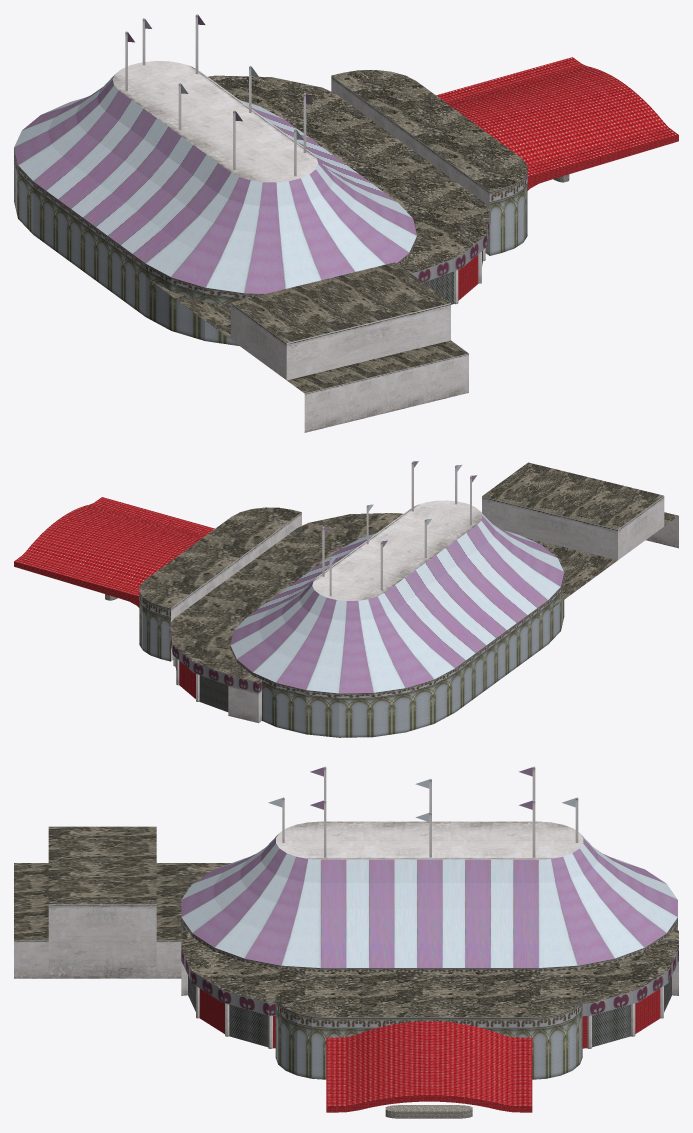
Rendered from vgncircus1.obj.
3 views of the same model, one above another, from view 1: azimuth 30°, elevation 25°; view 2: azimuth 150°, elevation 25°; view 3: azimuth 270°, elevation 25° (orthographic). The views are drawn at different scales.
Parts seen in each view (by area): view 1: vgncircus1; view 2: vgncircus1; view 3: vgncircus1.
Part boxes in pixels (x1,y1,x2,y2): vgncircus1: (14, 14, 678, 432); vgncircus1: (14, 461, 678, 737); vgncircus1: (14, 766, 678, 1118).
Bounding box in the file's own units: 80.09 × 26.07 × 88.83.
Materials: 11 (11 with a texture image).
